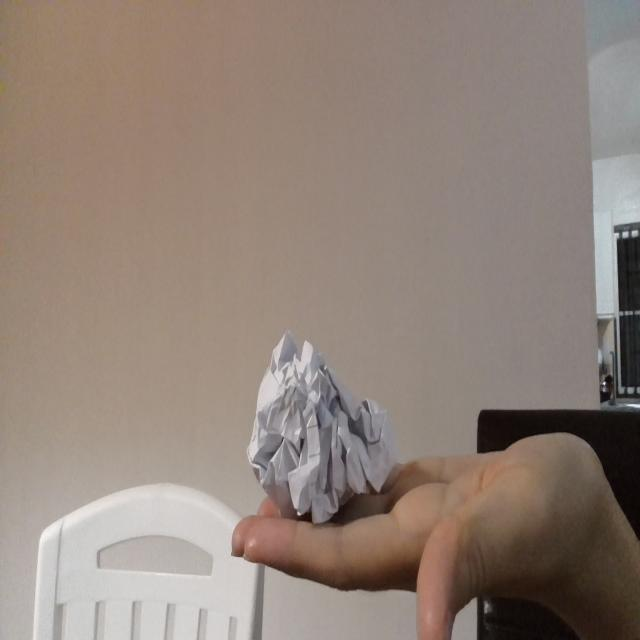crumpled_paper: (248, 326, 395, 530)
